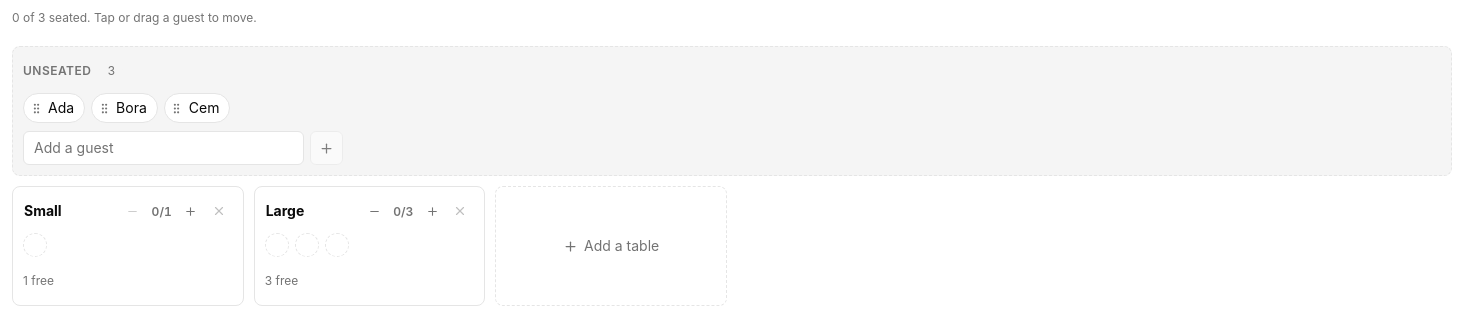
Test: Seating › seats a guest by selecting and choosing a table, and respects capacity
Later steps or results of the test are not shown.
Expected: the button "Seat " is not shown
Click the button "Ada". click: (54, 108)
box: [23,93,85,123]
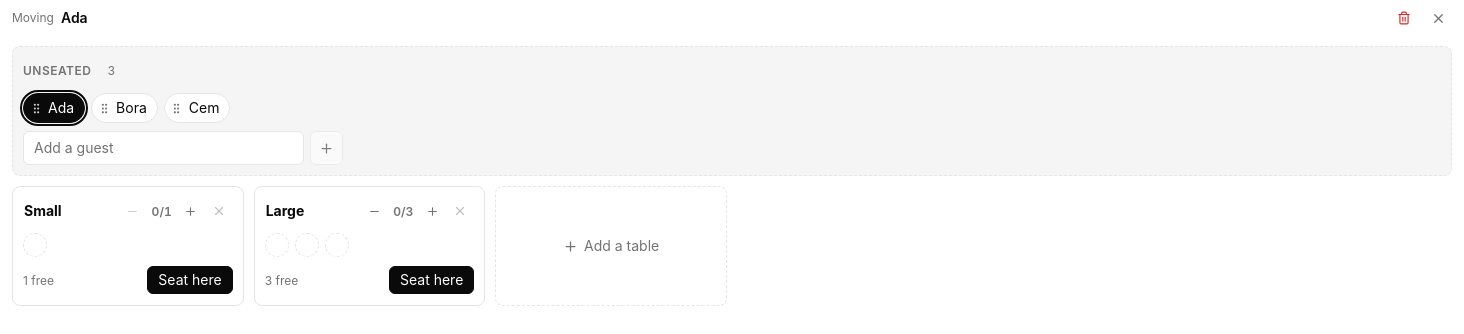
Click the button with aria-label "Seat Ada at Small". click: (190, 280)
box: [147,266,233,294]
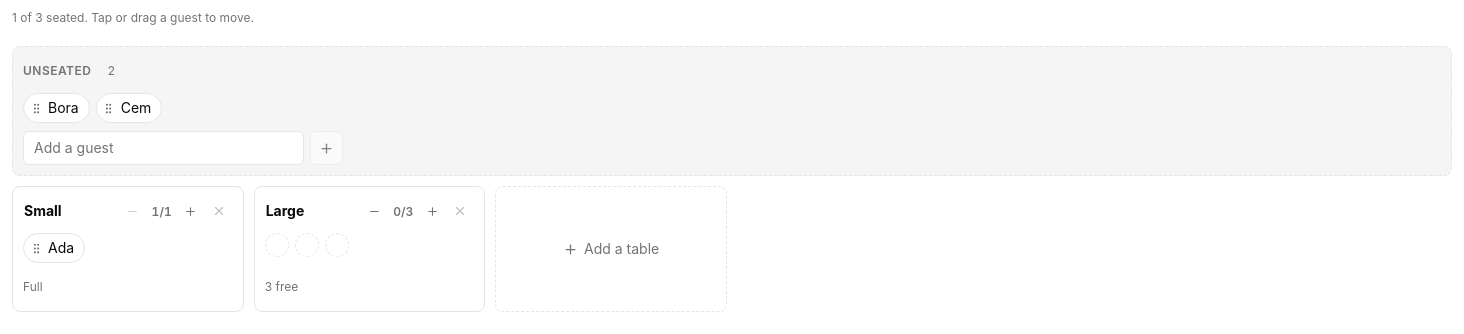
Expected: the text "Full" is shown, [23,278,43,295]
Expected: the button "Seat " is gone
the small table has one seat only
Click the button "Bora". click: (56, 108)
box: [23,93,90,123]
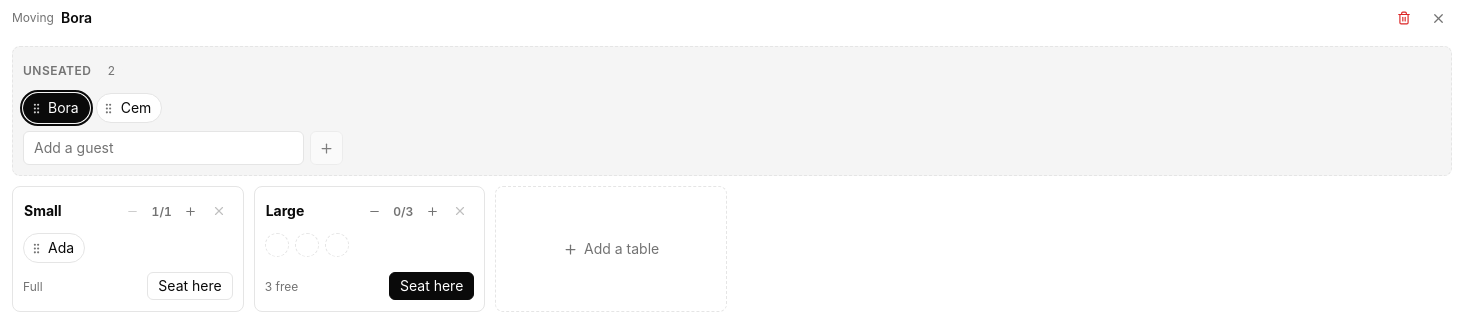
Click the button with aria-label "Seat Bora at Small". click: (190, 286)
box: [147,272,233,300]
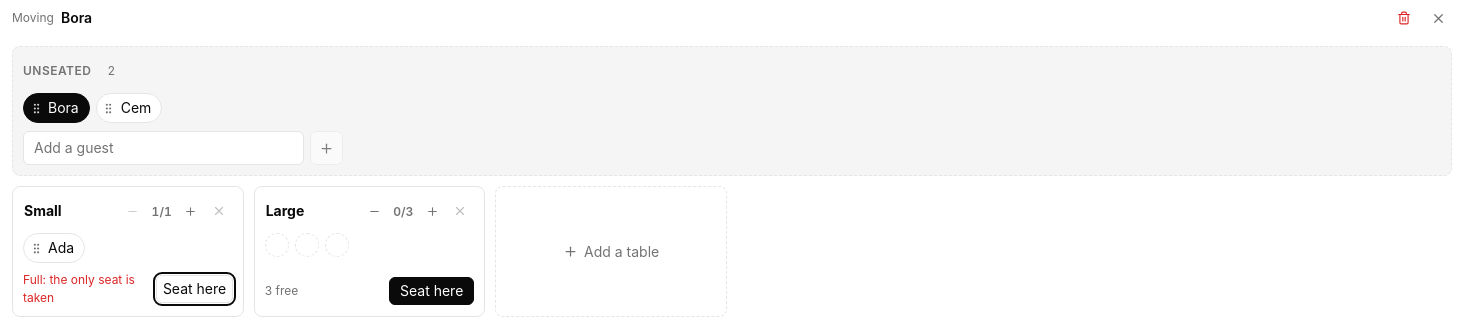
Expected: the message reads "Full: the only seat is taken", [23,271,148,306]
